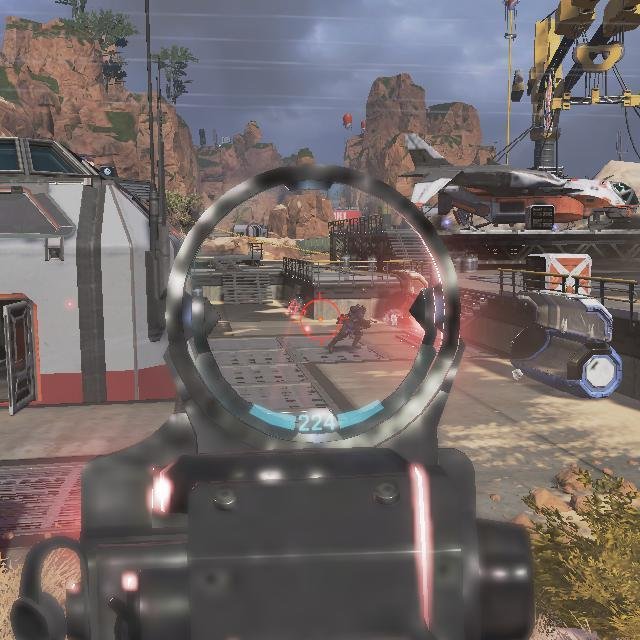avatar: (334, 302, 373, 355)
